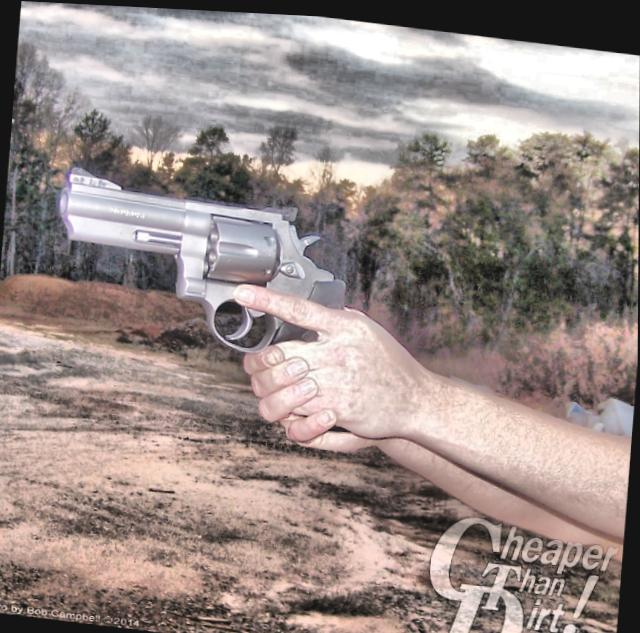pistol: (31, 158, 375, 437)
